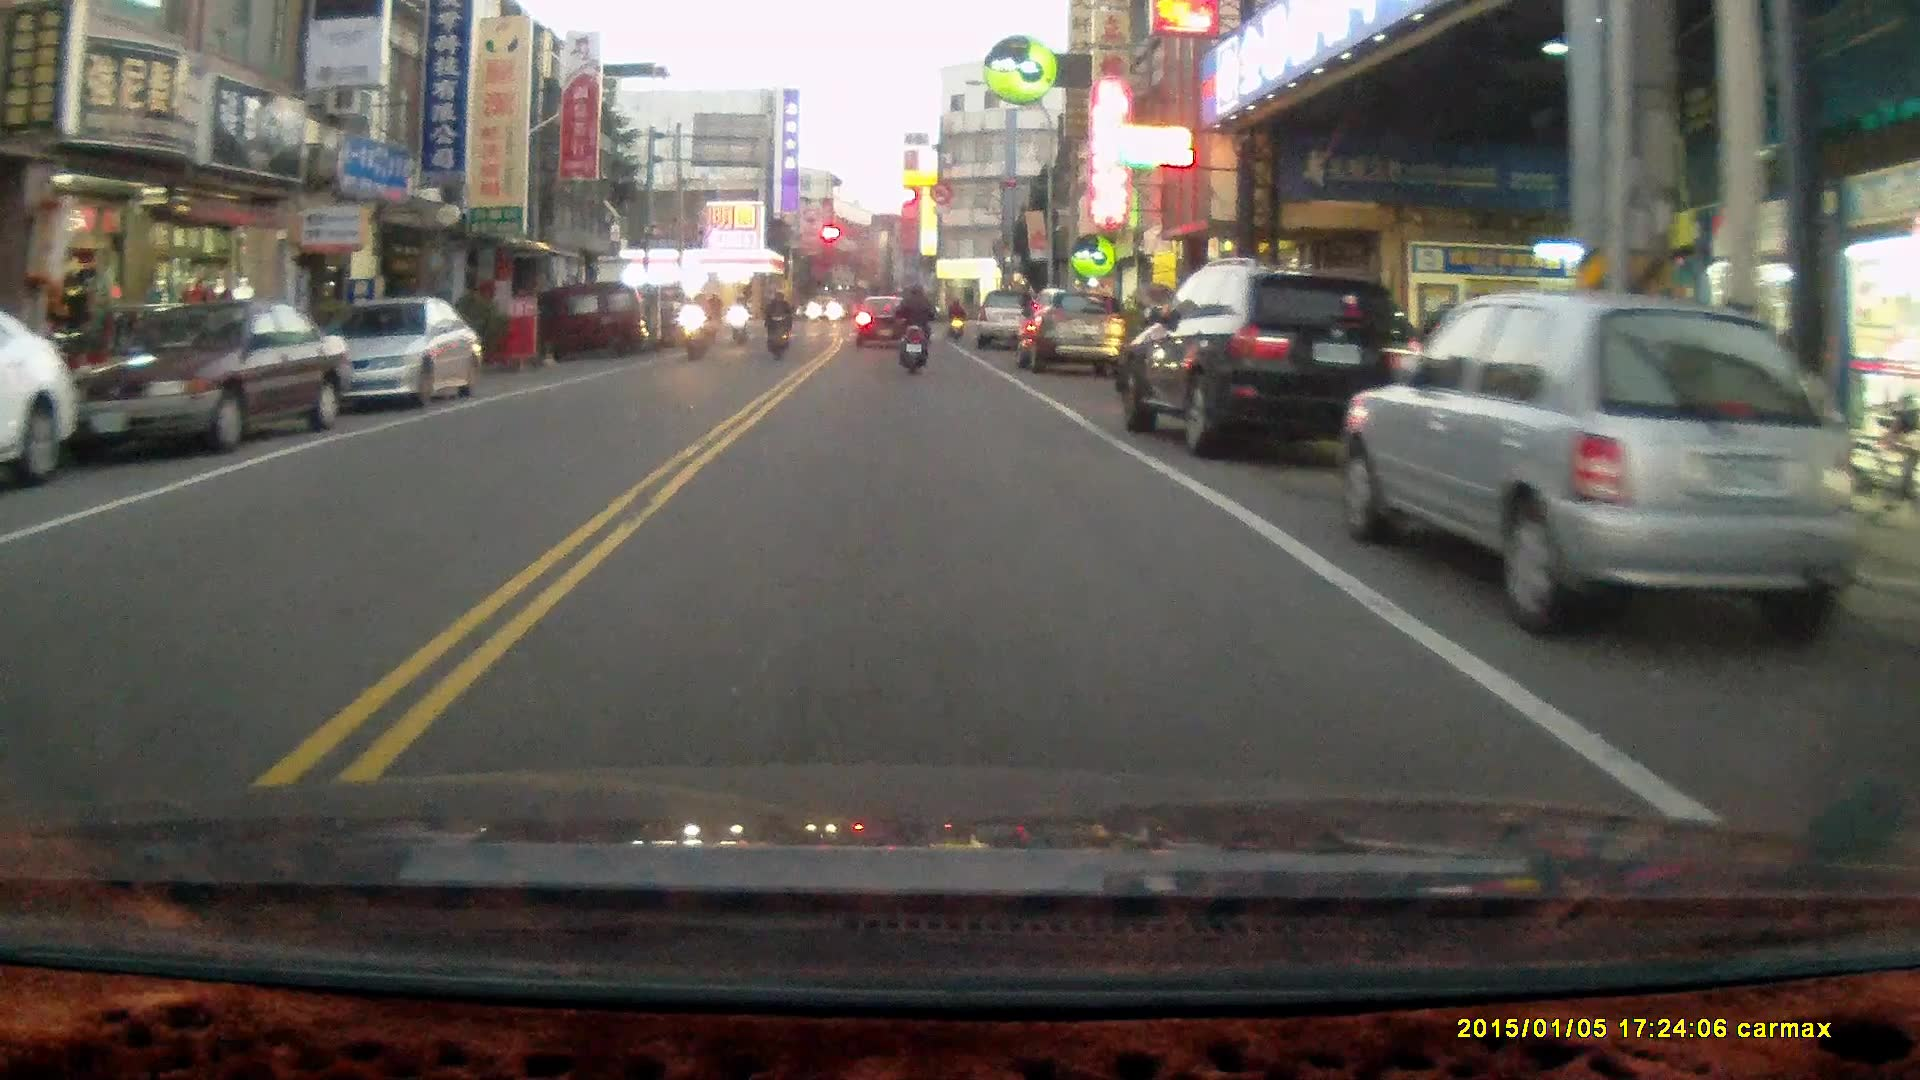rider: (891, 277, 932, 378), (680, 291, 712, 363), (762, 289, 791, 359), (701, 290, 725, 347), (726, 295, 750, 351), (944, 297, 966, 341)
vehicle: (1338, 291, 1862, 630), (1127, 260, 1417, 461), (69, 295, 353, 454), (314, 295, 481, 409), (1, 309, 82, 491), (1016, 293, 1127, 376), (560, 284, 657, 355), (975, 289, 1045, 355)
